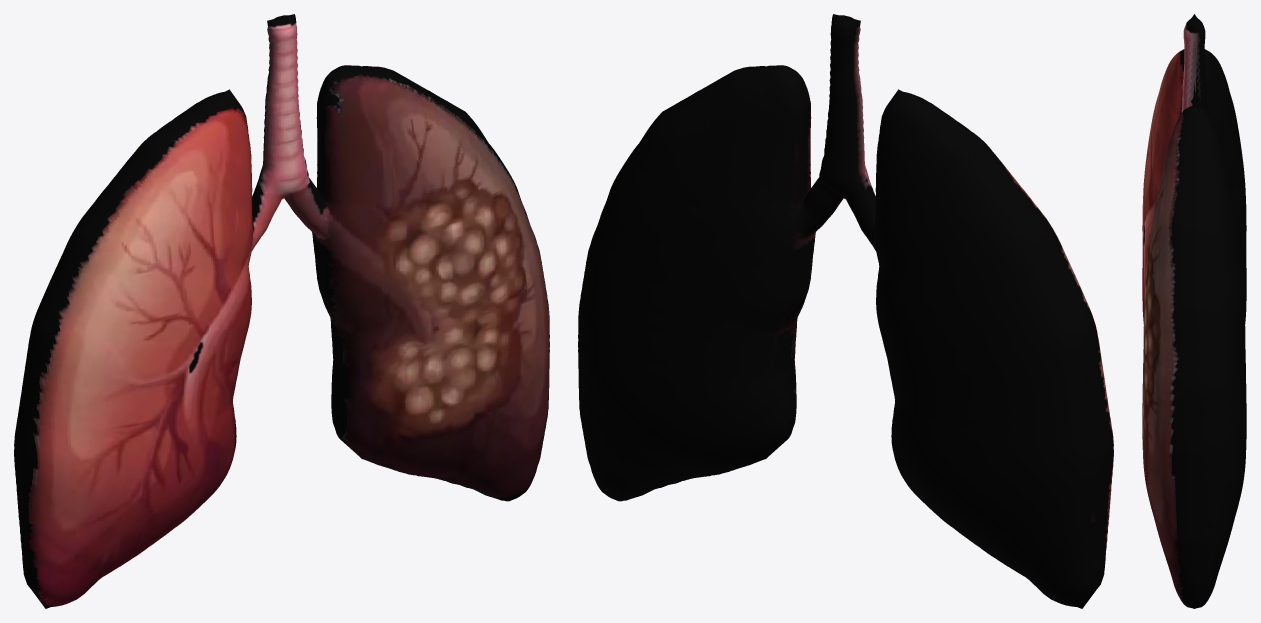
Rendered from paru-paru_manusia.glb.
The picture shows the model from 3 angles, left to right: view 1: azimuth 30°, elevation 25°; view 2: azimuth 150°, elevation 25°; view 3: azimuth 270°, elevation 25°; orthographic projection. The views are drawn at different scales.
Visible parts, largest first — view 1: root_Material_341_0; view 2: root_Material_341_0; view 3: root_Material_341_0.
Part boxes in pixels (x1,y1,x2,y2): root_Material_341_0: (14, 14, 549, 608); root_Material_341_0: (578, 14, 1113, 608); root_Material_341_0: (1142, 14, 1246, 608).
Size of the model in its own units: 1.42 by 1.4 by 0.2711.
1 material, 1 textured.
